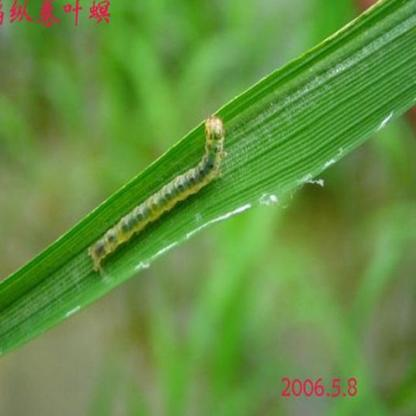leaf-folder: (64, 109, 244, 262)
